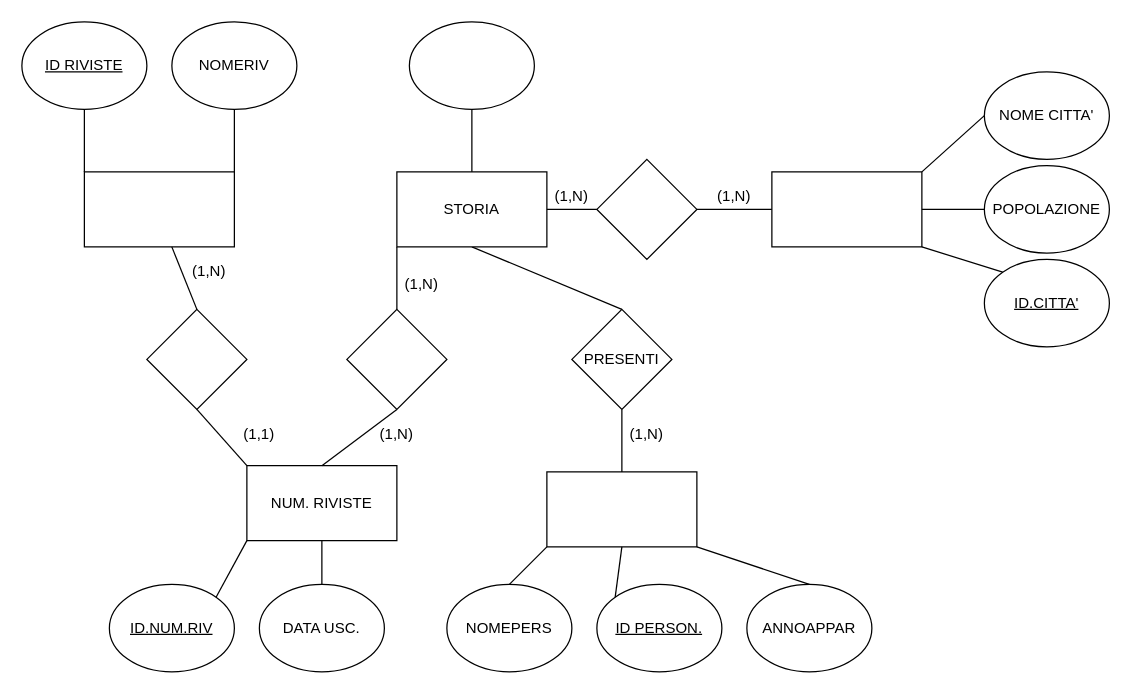
Image size: 1131x694. Some labels were removed from this diagram. The shapes that lost their labels are listed below. From the top down, each one's box as (x1, y1, x2, y2) in pixels, then its label:
(408, 21, 534, 109): ID. STORIE
(83, 171, 234, 247): RIVISTE
(596, 158, 697, 259): AMBIENTE
(771, 171, 922, 247): CITTA'
(146, 308, 247, 409): CATALOGO
(346, 308, 447, 409): PUBBL.
(546, 471, 697, 547): PERSONAGGIO
